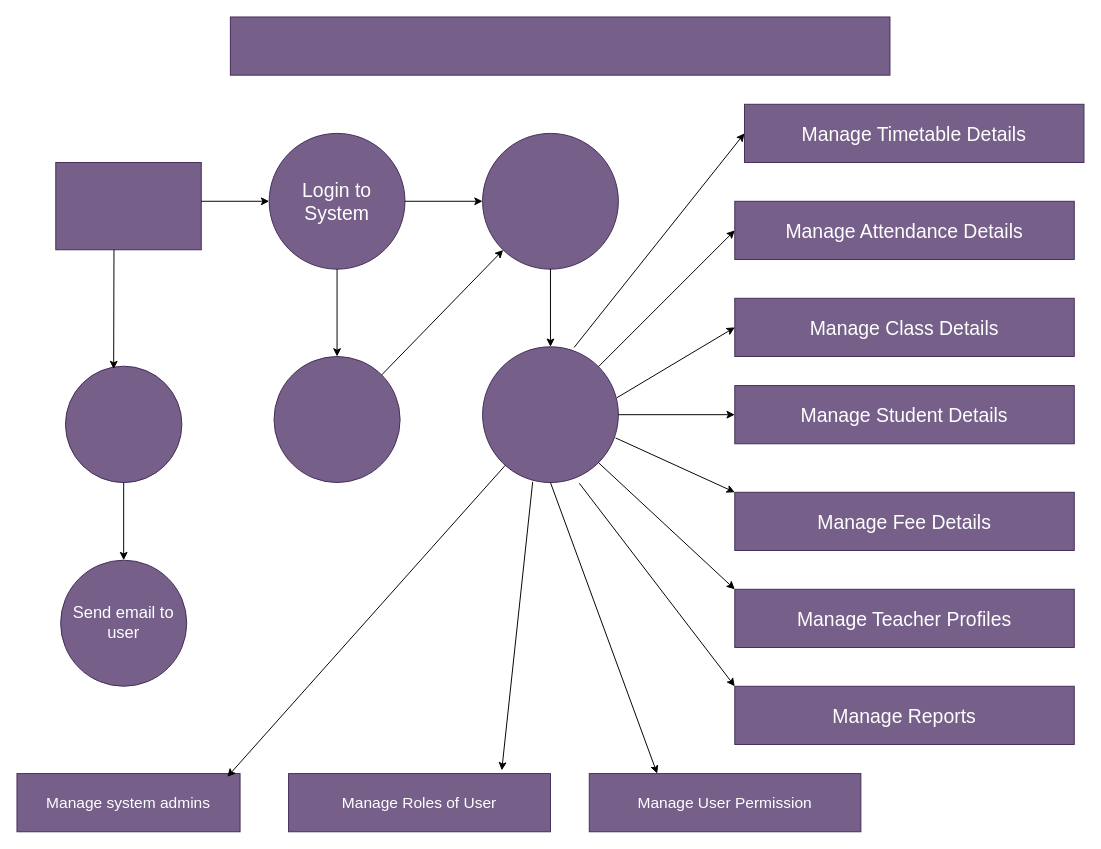
This 1101x849 diagram has some shape labels left out. The centre of each missing label's shape, as x and y in pixels:
"Admin" goes at point (128, 206).
"Check credentials" goes at point (336, 419).
"Check roles of Access" goes at point (550, 200).
"Forget Password" goes at point (123, 424).
"Manage Modules" goes at point (550, 414).
"Student Information System" goes at point (559, 45).
